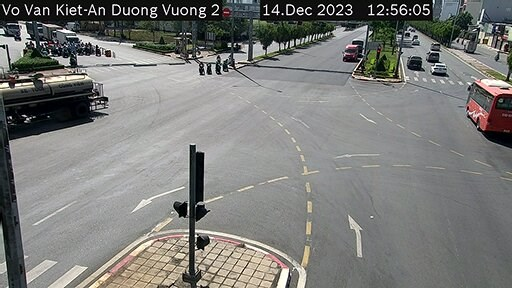car: (460, 69, 512, 132), (430, 60, 447, 81), (409, 52, 424, 75), (344, 42, 360, 59), (425, 48, 439, 64)
truck: (4, 67, 101, 127), (56, 30, 83, 48)
